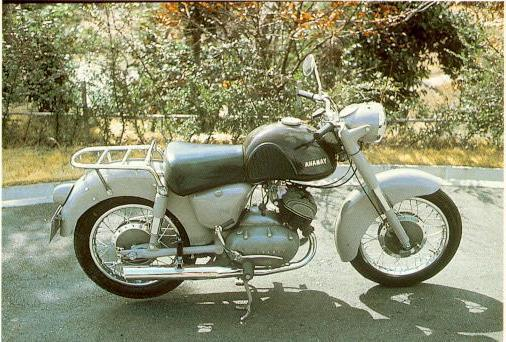motorcycle: (49, 61, 479, 312)
